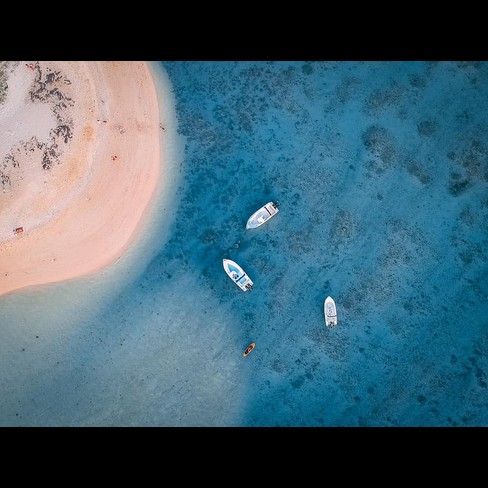boat: (215, 251, 256, 299), (241, 197, 281, 232), (318, 291, 341, 331), (241, 337, 256, 359)
